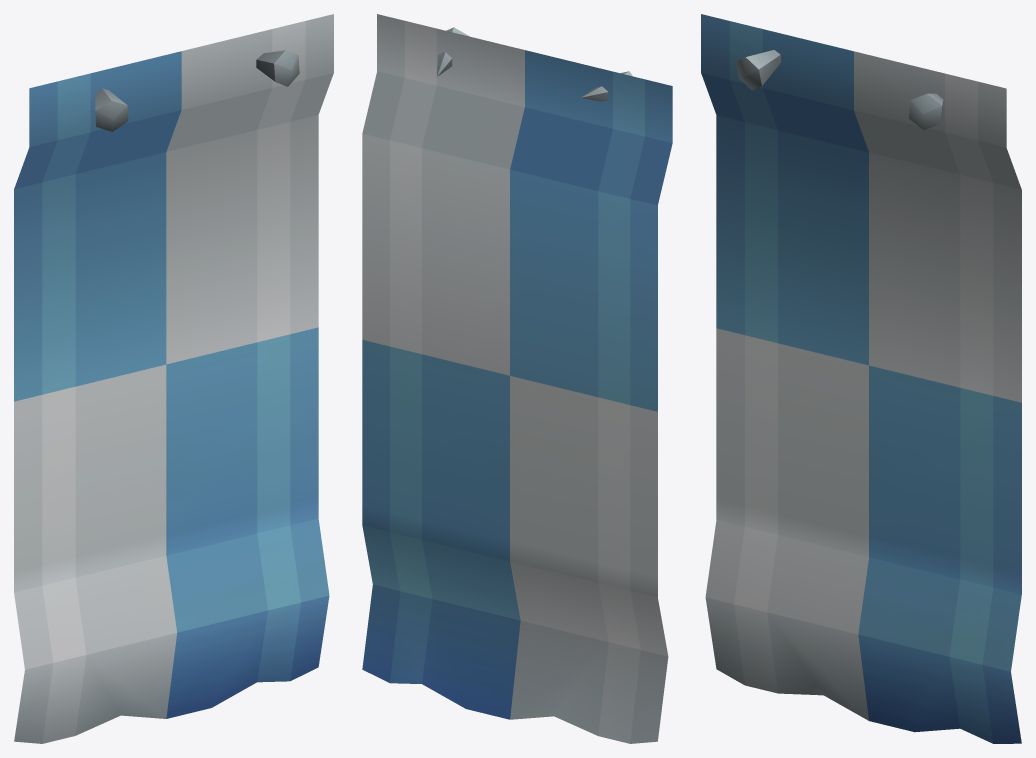
Rendered from banner_patternA_blue.glb.
3 views of the same model, side by side, from view 1: azimuth 30°, elevation 25°; view 2: azimuth 150°, elevation 25°; view 3: azimuth 330°, elevation 25° (orthographic). The views are drawn at different scales.
Visible parts, largest first — view 1: banner_patternA_blue; view 2: banner_patternA_blue; view 3: banner_patternA_blue.
Boxes of the visible parts, <box> form: banner_patternA_blue: <box>14,14,333,743</box>; banner_patternA_blue: <box>362,14,672,743</box>; banner_patternA_blue: <box>701,14,1021,743</box>.
Bounding box in the file's own units: 1.5 × 3.2 × 0.3119.
1 material, 1 textured.
